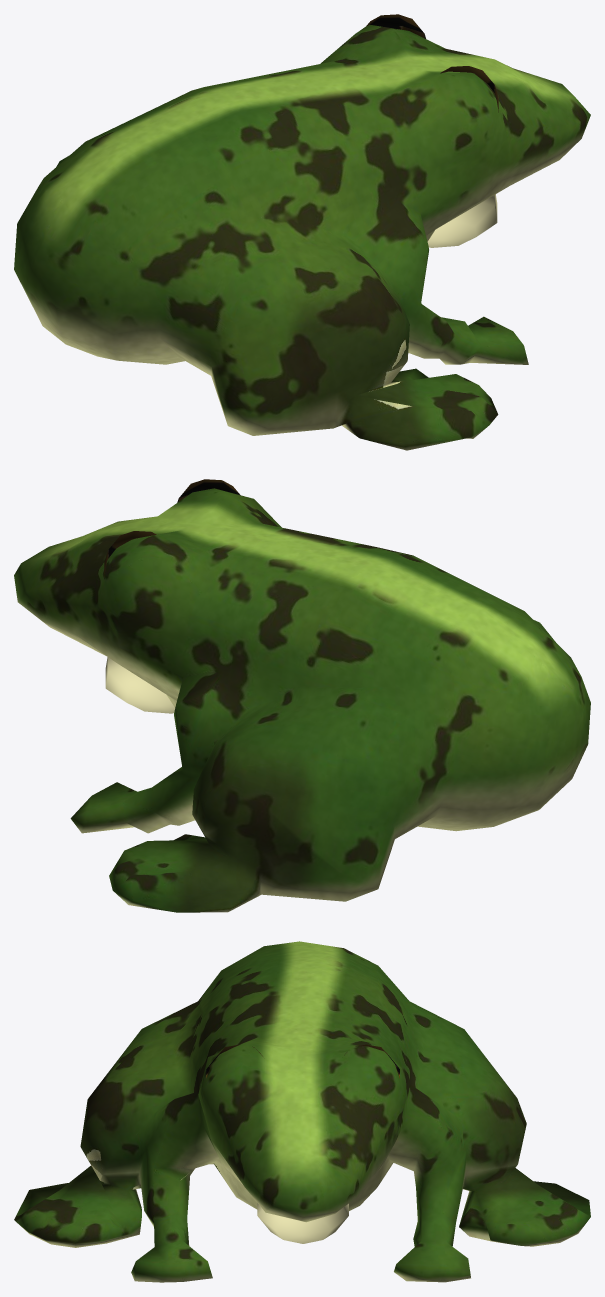
File: frog.glb
3 views of the same model, one above another, from view 1: azimuth 30°, elevation 25°; view 2: azimuth 150°, elevation 25°; view 3: azimuth 270°, elevation 25° (orthographic). The views are drawn at different scales.
Visible parts, largest first — view 1: frog, frog_throat, frog_eyes; view 2: frog, frog_throat, frog_eyes; view 3: frog, frog_throat.
Part boxes in pixels (<box>): frog: <box>14,24,590,450</box>; frog_throat: <box>427,194,497,247</box>; frog_eyes: <box>366,14,498,112</box>; frog: <box>14,488,590,912</box>; frog_throat: <box>105,657,175,713</box>; frog_eyes: <box>104,479,240,578</box>; frog: <box>14,941,590,1282</box>; frog_throat: <box>257,1203,348,1243</box>.
Size of the model in its own units: 0.075 by 0.0336 by 0.0749.
3 materials, 2 textured.
